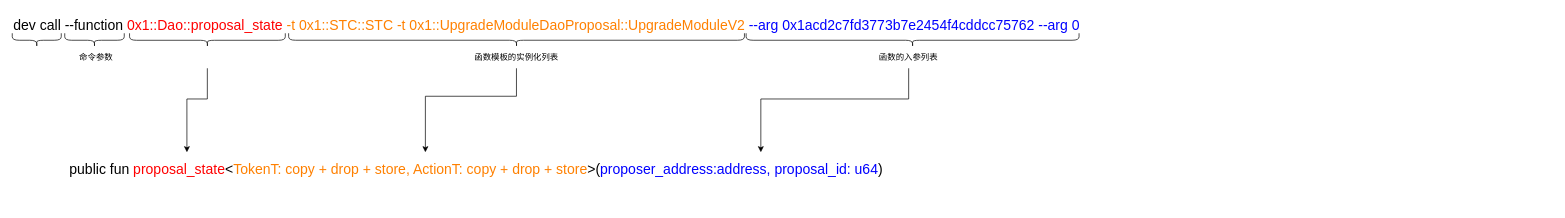
This 1565x218 diagram has some shape labels left out. The centre of each missing label's shape, as x and y in pixels:
内置命令: pixel 36 40
函数名 格式为：地址::模块名::函数名: pixel 207 40
